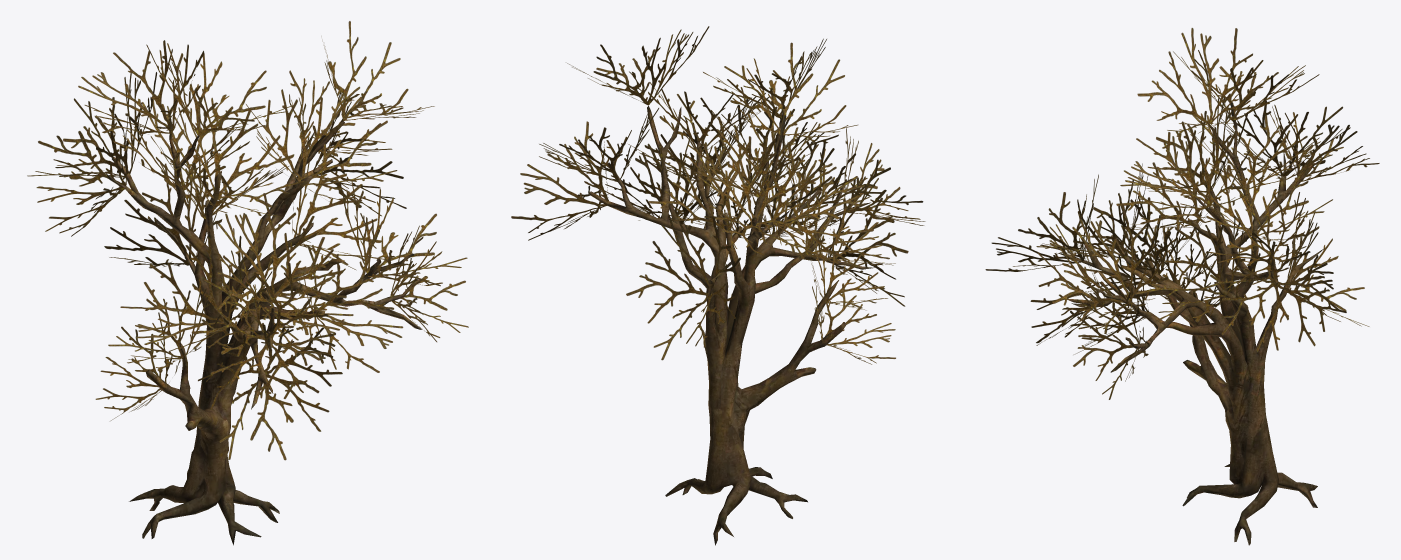
The model's file is sf_tree_10.glb.
3 renders of one model, left to right at view 1: azimuth 30°, elevation 25°; view 2: azimuth 150°, elevation 25°; view 3: azimuth 270°, elevation 25°, orthographic. The views are drawn at different scales.
Visible parts, largest first — view 1: branches_deadbranches_0, tree3_tree3_0; view 2: branches_deadbranches_0, tree3_tree3_0; view 3: branches_deadbranches_0, tree3_tree3_0.
Boxes of the visible parts, bbox=[...] form: branches_deadbranches_0: bbox=[27, 21, 468, 460]; tree3_tree3_0: bbox=[106, 119, 422, 545]; branches_deadbranches_0: bbox=[511, 26, 925, 364]; tree3_tree3_0: bbox=[588, 106, 874, 545]; branches_deadbranches_0: bbox=[985, 28, 1379, 399]; tree3_tree3_0: bbox=[1057, 102, 1324, 545].
Bounding box in the file's own units: 5.83 × 8 × 6.33.
Materials: 2 (2 with a texture image).
